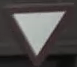Give way: (5, 5, 72, 60)
